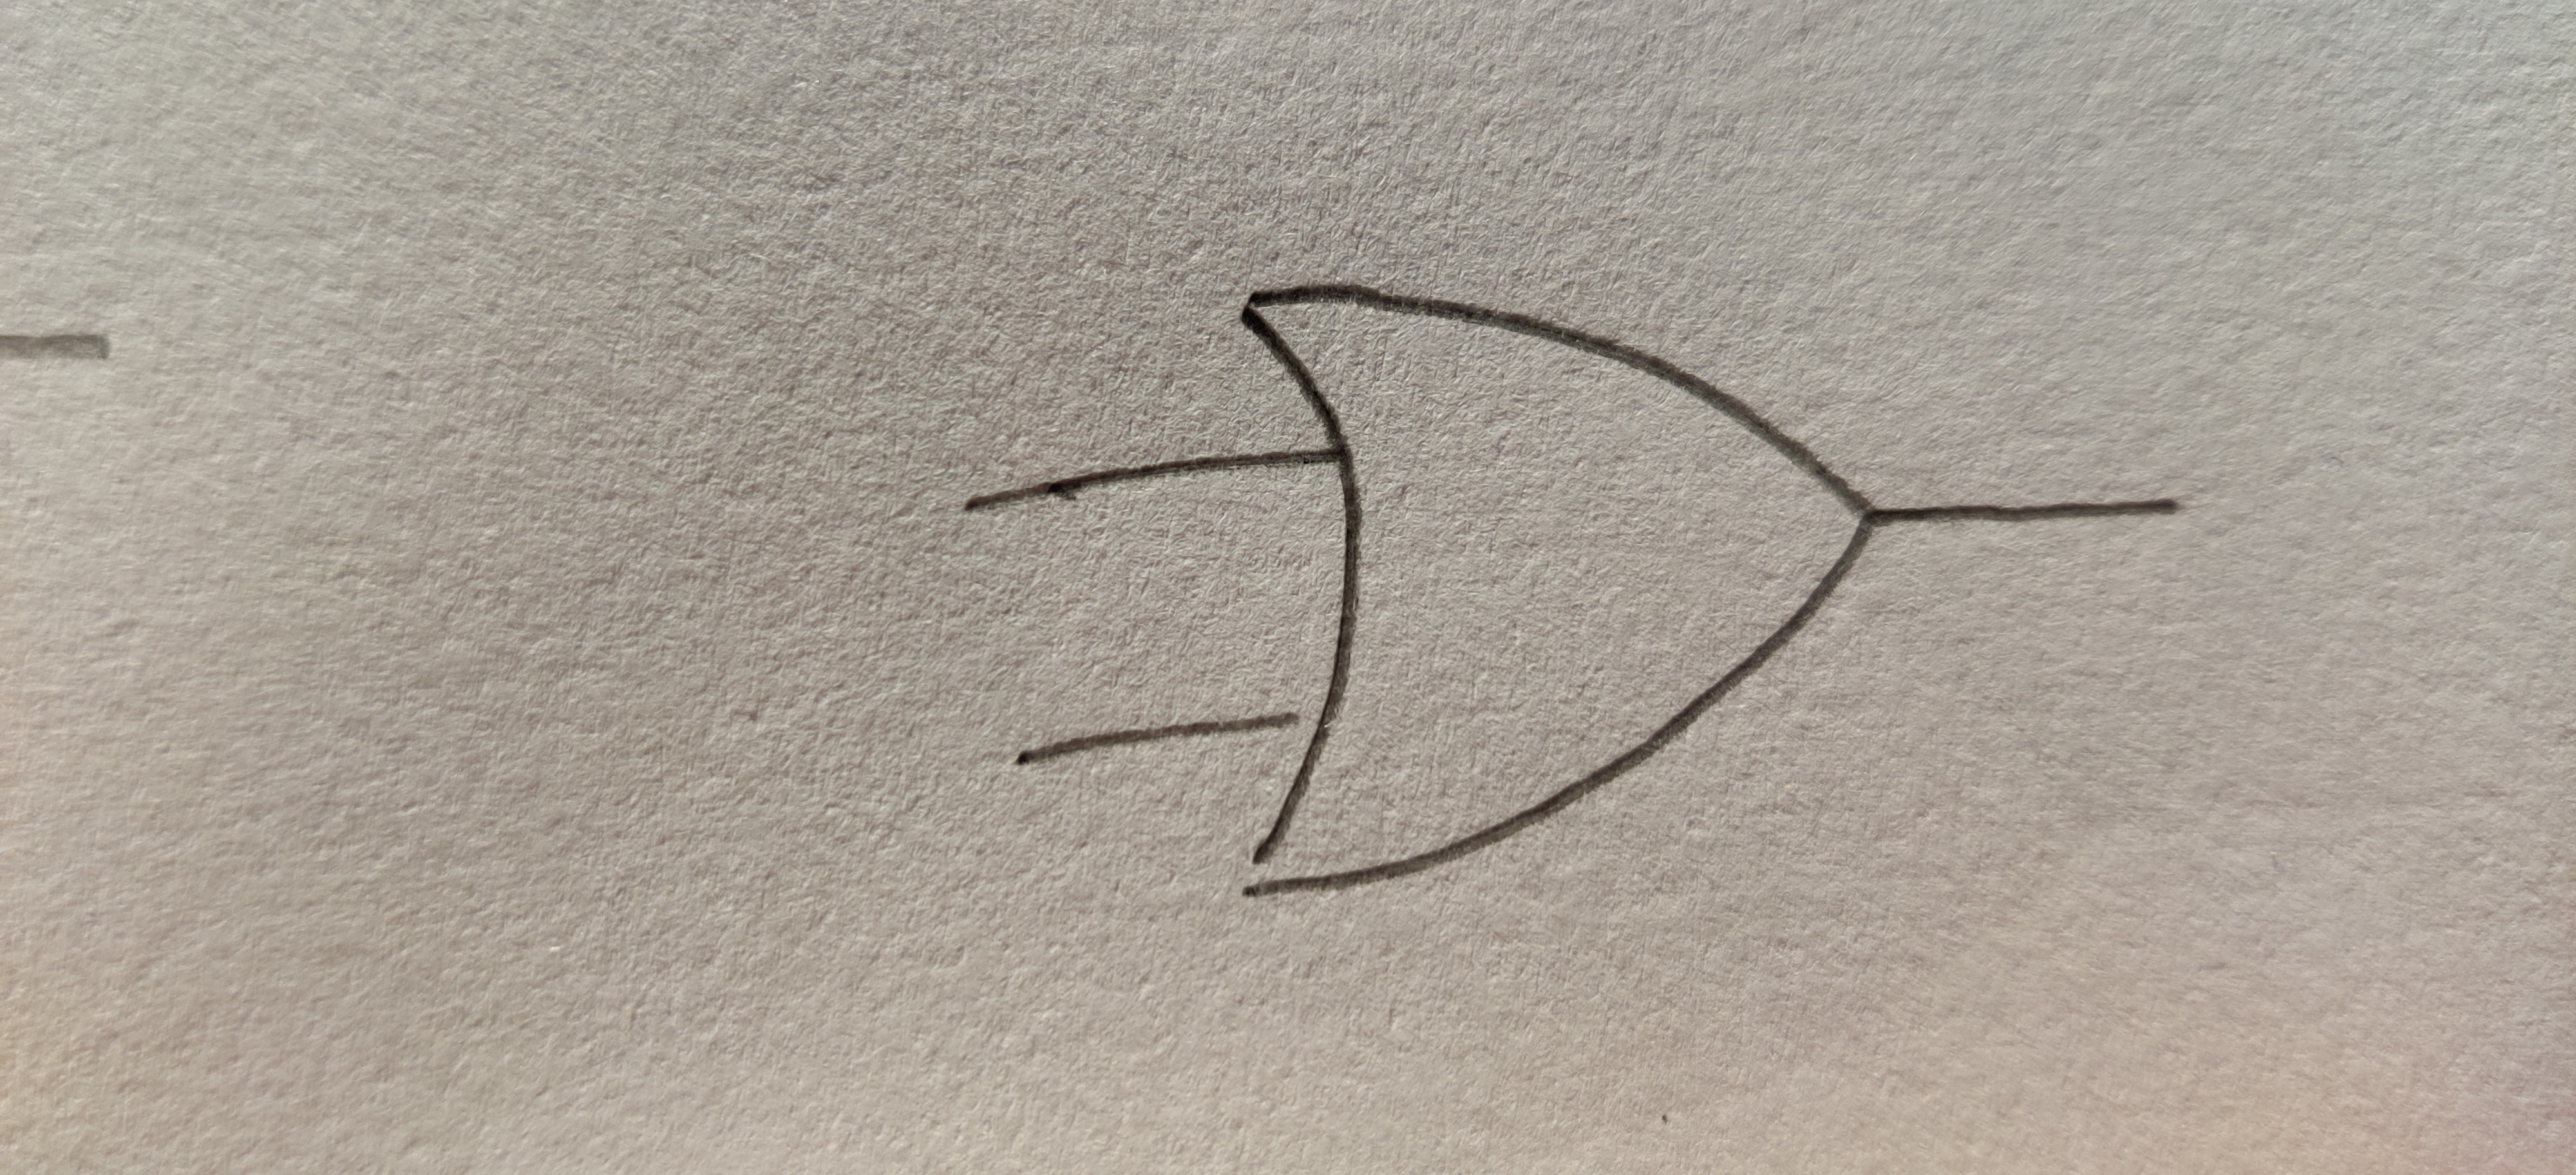or: (1237, 286, 1876, 897)
